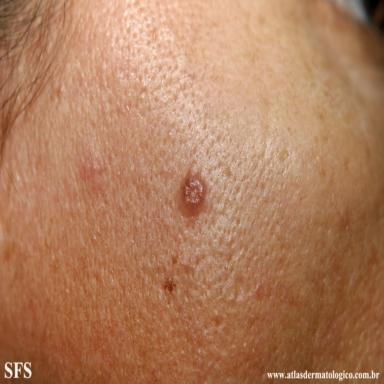basal-cell-carcinoma: (179, 170, 206, 217)
